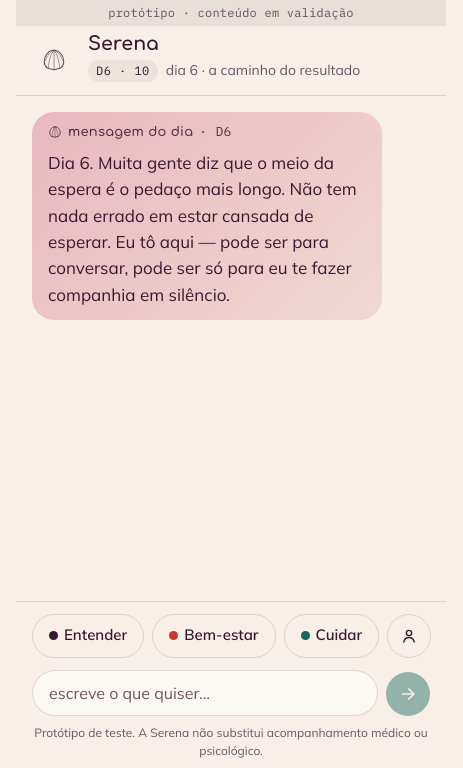
Test: Chat (Degrau B) › invocação pelo modelo vira widget (10a); nome fora do registry é ignorado com incidente
Type "não sei o que fazer hoje" into the text box labelled "escreve o que quiser…". click: (205, 693)
box: [32,670,378,716]
Then press Enter
(page scrolled)
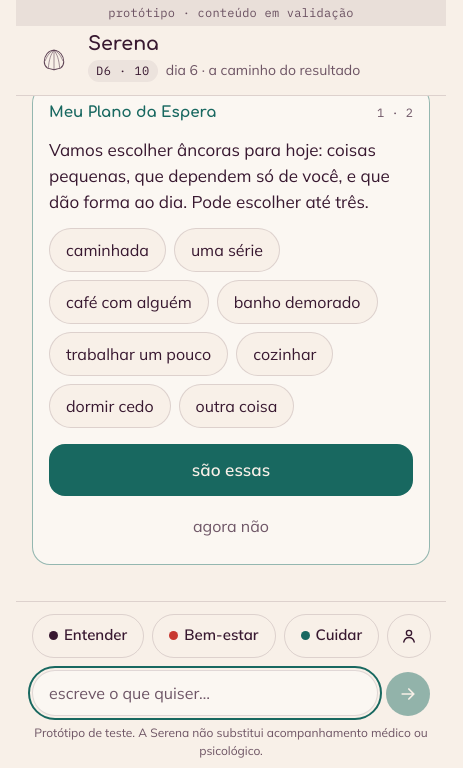
Expected: the element "Meu Plano da Espera" is shown, [32,96,430,565]
Click the button "agora não". click: (231, 526)
box: [49,504,413,548]
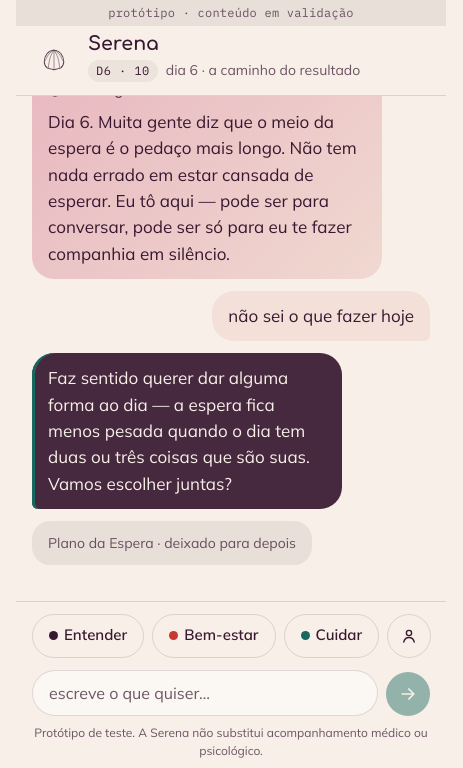
Type "#inventada" into the text box labelled "escreve o que quiser…". click: (205, 693)
box: [32,670,378,716]
Then press Enter
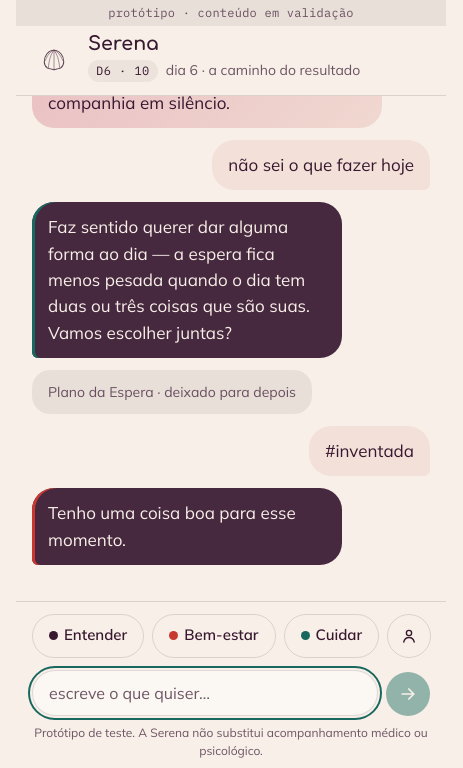
Type "#quebrado" into the text box labelled "escreve o que quiser…". click: (205, 693)
box: [32,670,378,716]
Then press Enter
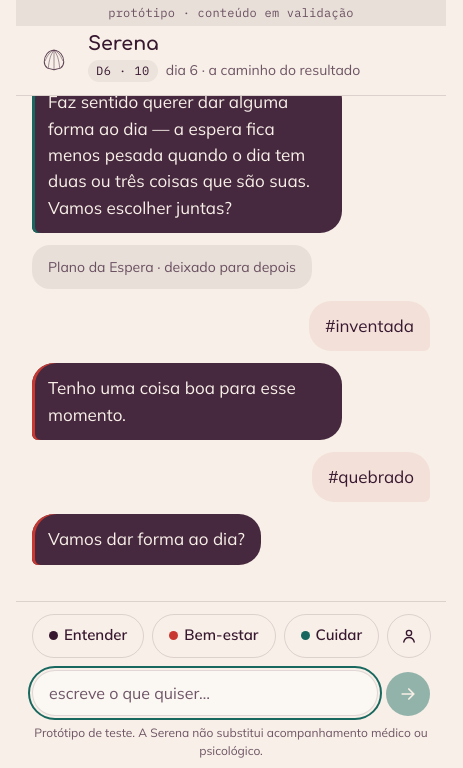
Expected: the text "Vamos dar forma ao dia?" is shown, [48,526,245,553]
